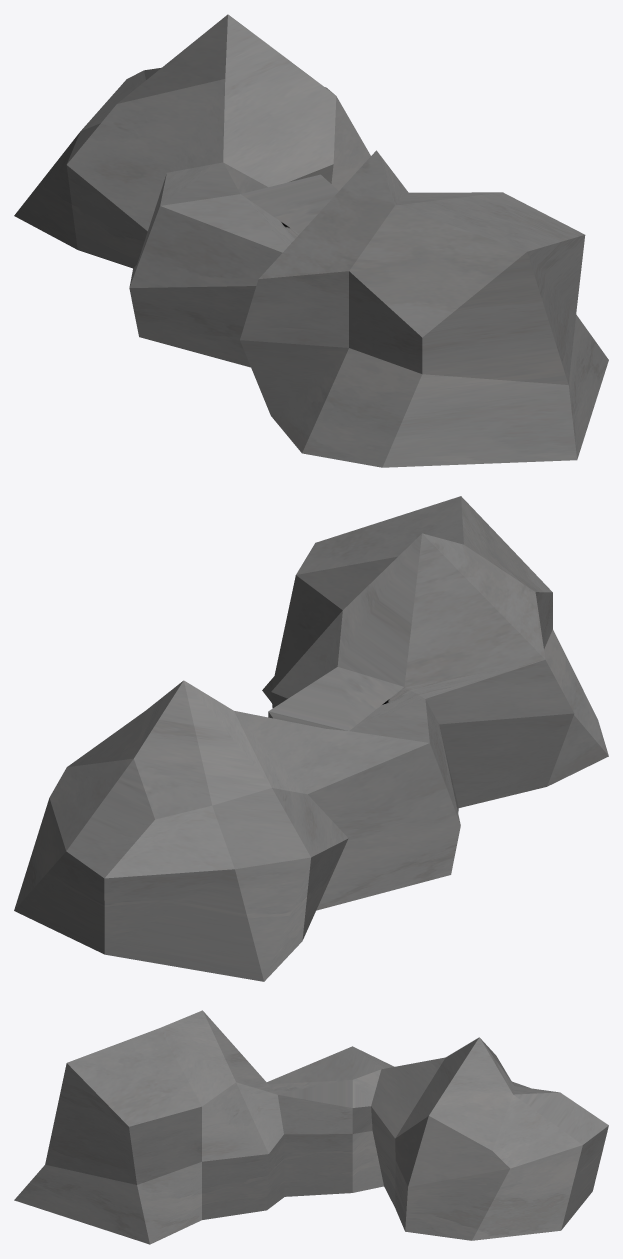
The model's file is bigstone3.fbx.
The picture shows the model from 3 angles, top to bottom: view 1: azimuth 30°, elevation 25°; view 2: azimuth 150°, elevation 25°; view 3: azimuth 270°, elevation 25°; orthographic projection. The views are drawn at different scales.
Visible parts, largest first — view 1: bigstoon3; view 2: bigstoon3; view 3: bigstoon3.
Part boxes in pixels (x1=…): bigstoon3: x1=14, y1=14, x2=608, y2=467; bigstoon3: x1=14, y1=496, x2=608, y2=981; bigstoon3: x1=14, y1=1010, x2=608, y2=1244.
Size of the model in its own units: 6.55 by 4.25 by 13.83.
Materials: 1 (1 with a texture image).
